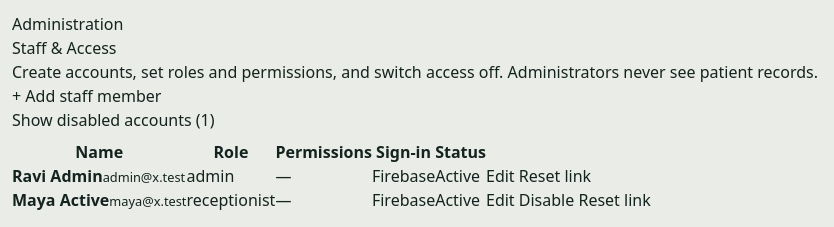
Scenario: Delete › deletes once confirmed, and returns to the active list after the last disabled account is gone
Expected: the text "Ravi Admin" is shown, left=12, top=165, right=103, bottom=187
Click the button "Show disabled accounts (1)".
click(113, 120)  # box left=12, top=108, right=214, bottom=132
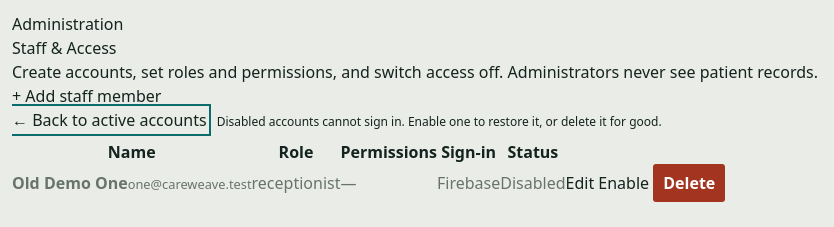
Click the button "Delete".
click(689, 183)  # box left=653, top=164, right=725, bottom=202
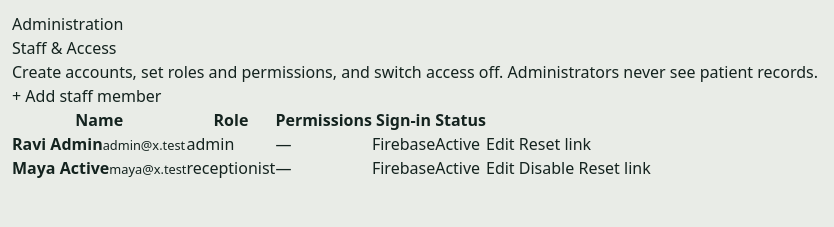
Expected: the text "Maya Active" is shown, left=12, top=157, right=109, bottom=179
